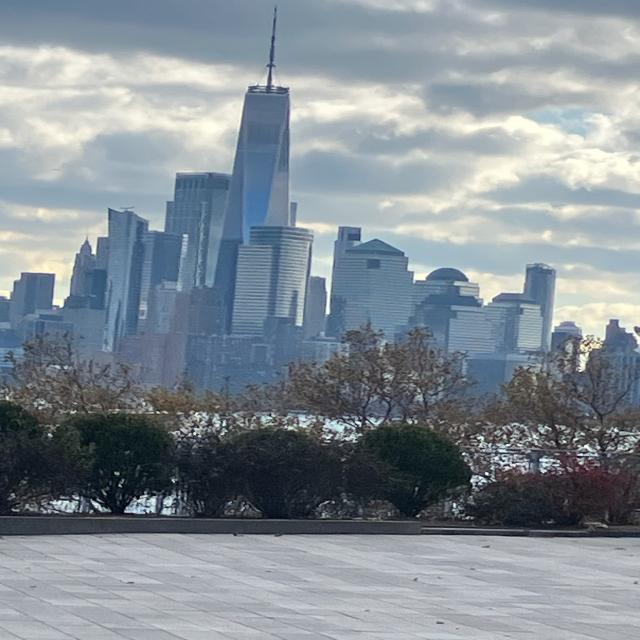WTC: (215, 4, 296, 289)
